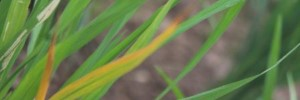RiceTungro: (61, 43, 149, 100), (41, 21, 57, 100)
